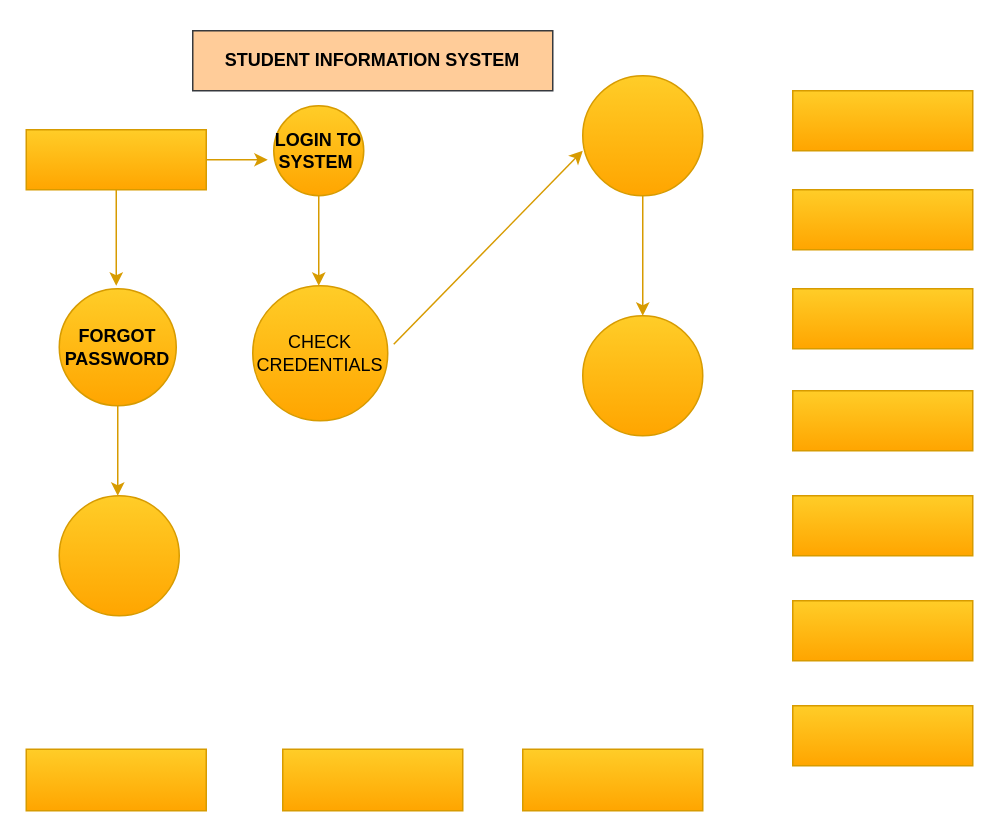
Some shapes in this 999 by 837 pixel diagram are drawn without their labels. Each missing label, with the centre of its shape:
"ADMIN" goes at (x=115, y=159).
"SEND EMAIL TO USER" goes at (x=118, y=555).
